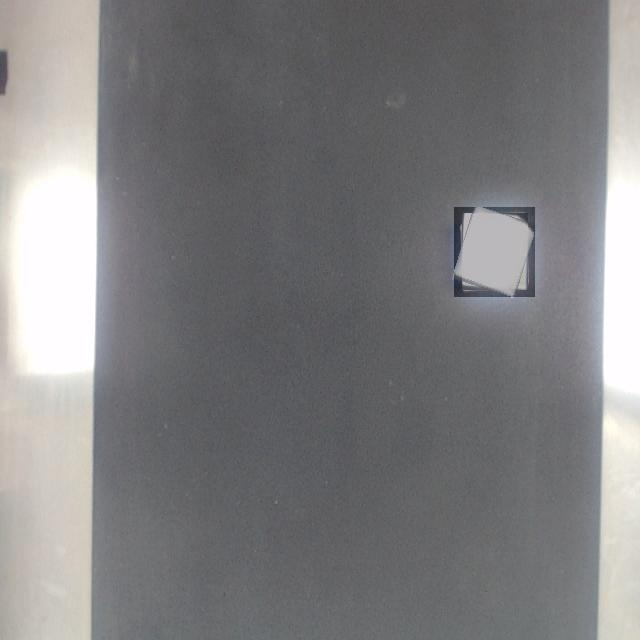Blanco: (454, 207, 535, 297)
